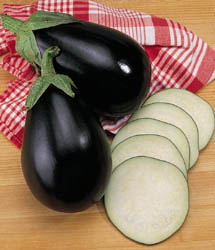eggplant: (5, 7, 156, 126), (19, 63, 117, 217)
